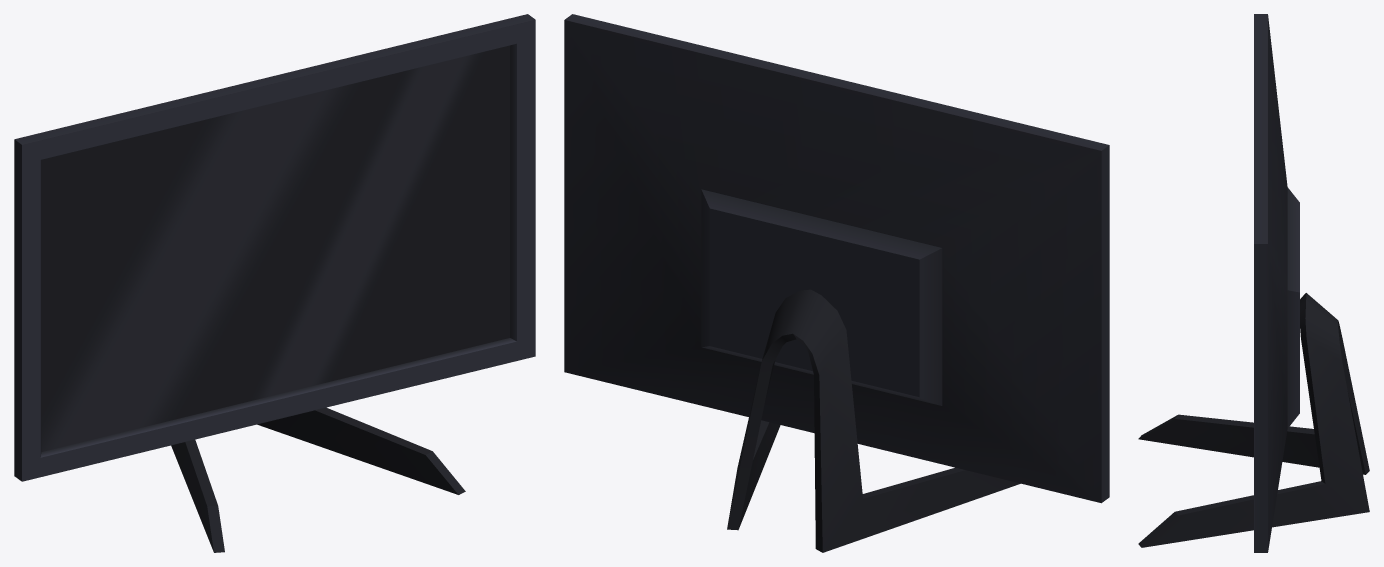
File: Flat screen tv with Stand.fbx
The picture shows the model from 3 angles, left to right: view 1: azimuth 30°, elevation 25°; view 2: azimuth 150°, elevation 25°; view 3: azimuth 270°, elevation 25°; orthographic projection. The views are drawn at different scales.
Visible parts, largest first — view 1: Tv Screen Stand; view 2: Tv Screen Stand; view 3: Tv Screen Stand.
Part boxes in pixels (bbox=[...]): Tv Screen Stand: bbox=[14, 14, 535, 552]; Tv Screen Stand: bbox=[564, 14, 1109, 552]; Tv Screen Stand: bbox=[1138, 14, 1369, 552].
Size of the model in its own units: 2.16 by 1.59 by 0.9214.
Materials: 1 (1 with a texture image).
